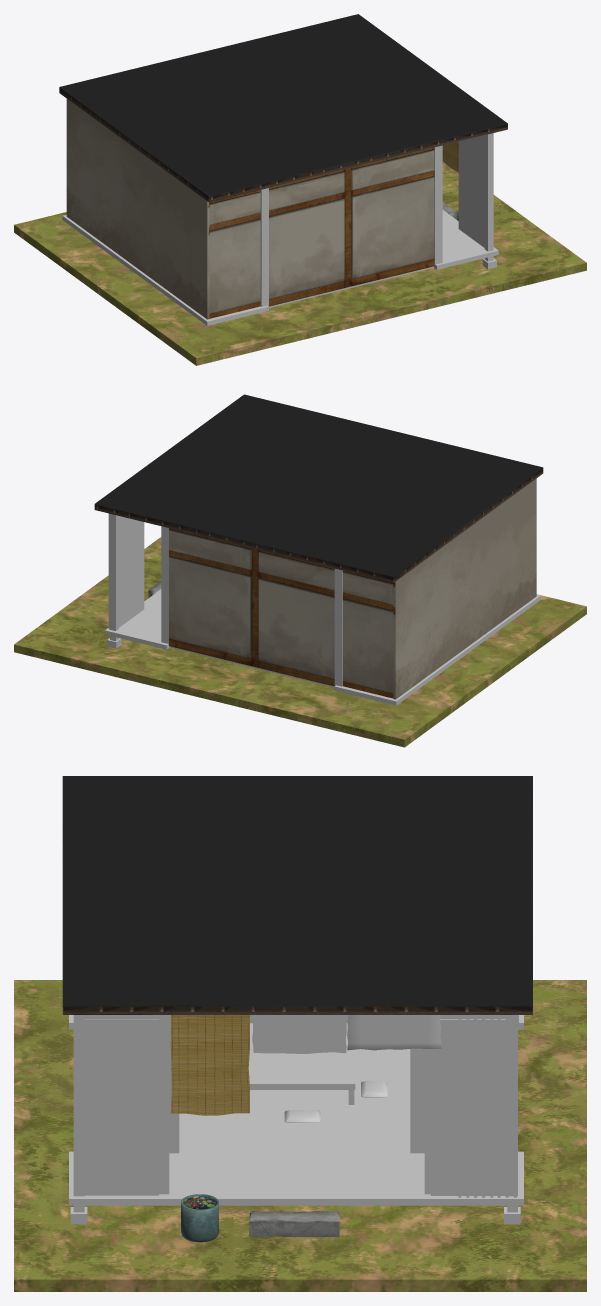
Rendered from terrace japan01.fbx.
3 renders of one model, top to bottom at view 1: azimuth 30°, elevation 25°; view 2: azimuth 150°, elevation 25°; view 3: azimuth 270°, elevation 25°, orthographic. The views are drawn at different scales.
Visible parts, largest first — view 1: Cube.002, Cube.025, Cube.017, Cube.026, Cube.071, Cube.012, Cube.053, Cube.024, Cube.062, Cube.021; view 2: Cube.002, Cube.017, Cube.065, Cube.026, Cube.034, Cube.012, Cube.053, Cube.051, Cube.030, Cube.041; view 3: Cube.002, Cube.017, Cube.012, Cube.003, Cube.035, Cube.036, Cube.037, Cube.008, Cube.032, Cube.019, Cube, Cube.021 (+15 smaller).
Boxes of the visible parts, x1,y1,x2,y2 form: Cube.002: (59, 14, 507, 202); Cube.025: (209, 147, 434, 318); Cube.017: (14, 161, 586, 365); Cube.026: (66, 99, 209, 319); Cube.071: (458, 135, 484, 247); Cube.012: (434, 210, 498, 269); Cube.053: (62, 215, 268, 325); Cube.024: (434, 145, 442, 264); Cube.062: (260, 188, 268, 306); Cube.021: (484, 133, 493, 261); Cube.002: (94, 394, 543, 582); Cube.017: (14, 537, 586, 747); Cube.065: (169, 528, 393, 698); Cube.026: (393, 478, 536, 699); Cube.034: (119, 516, 144, 627); Cube.012: (105, 589, 169, 649); Cube.053: (334, 594, 540, 705); Cube.051: (110, 514, 119, 641); Cube.030: (334, 568, 342, 686); Cube.041: (161, 526, 168, 644); Cube.002: (62, 776, 532, 1014); Cube.017: (14, 980, 586, 1291); Cube.012: (69, 1151, 523, 1205); Cube.003: (179, 1023, 410, 1151); Cube.035: (84, 1019, 158, 1195); Cube.036: (431, 1019, 505, 1195); Cube.037: (170, 1015, 249, 1115); Cube.008: (248, 1055, 355, 1104); Cube.032: (252, 1015, 346, 1053); Cube.019: (347, 1015, 441, 1050); Cube: (249, 1211, 339, 1237); Cube.021: (73, 1015, 84, 1212).
Bounding box in the file's own units: 564 × 209 × 456.
